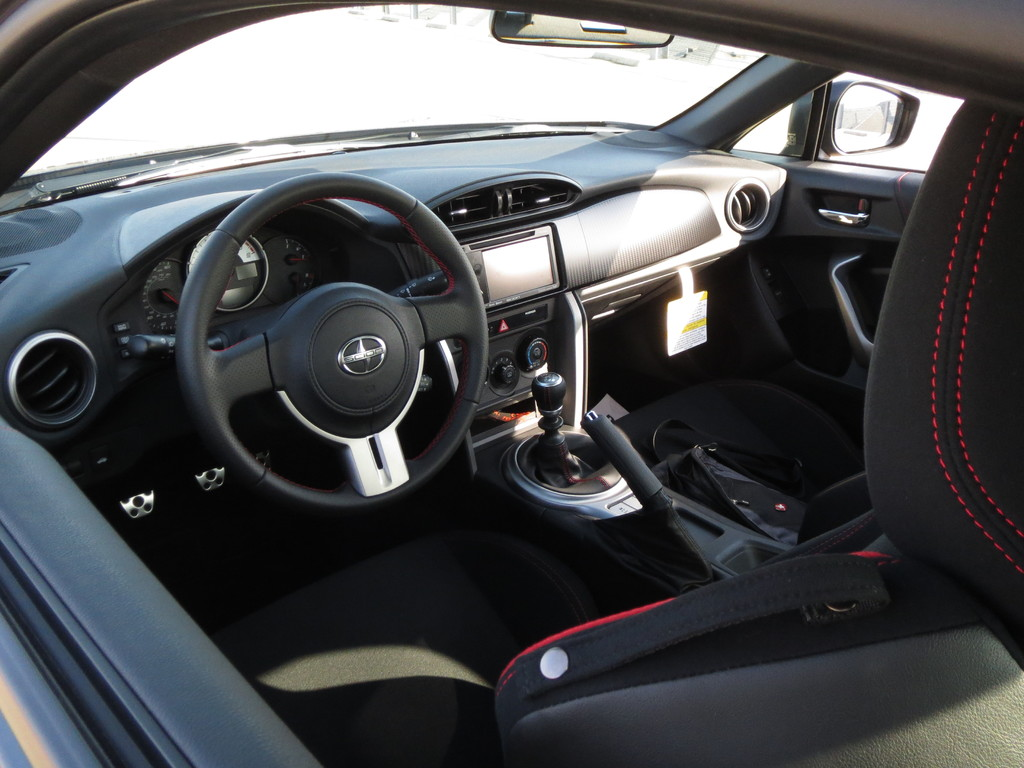Car: (21, 33, 995, 760)
